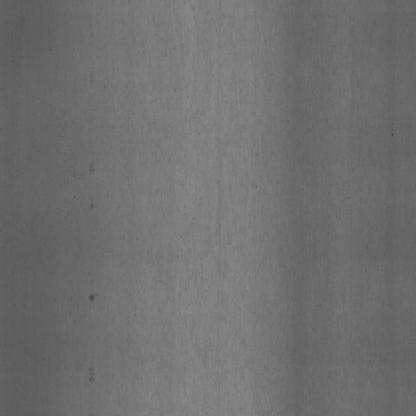oil_spot: (88, 356, 99, 391), (86, 192, 96, 214), (86, 284, 97, 303), (88, 155, 95, 179)
